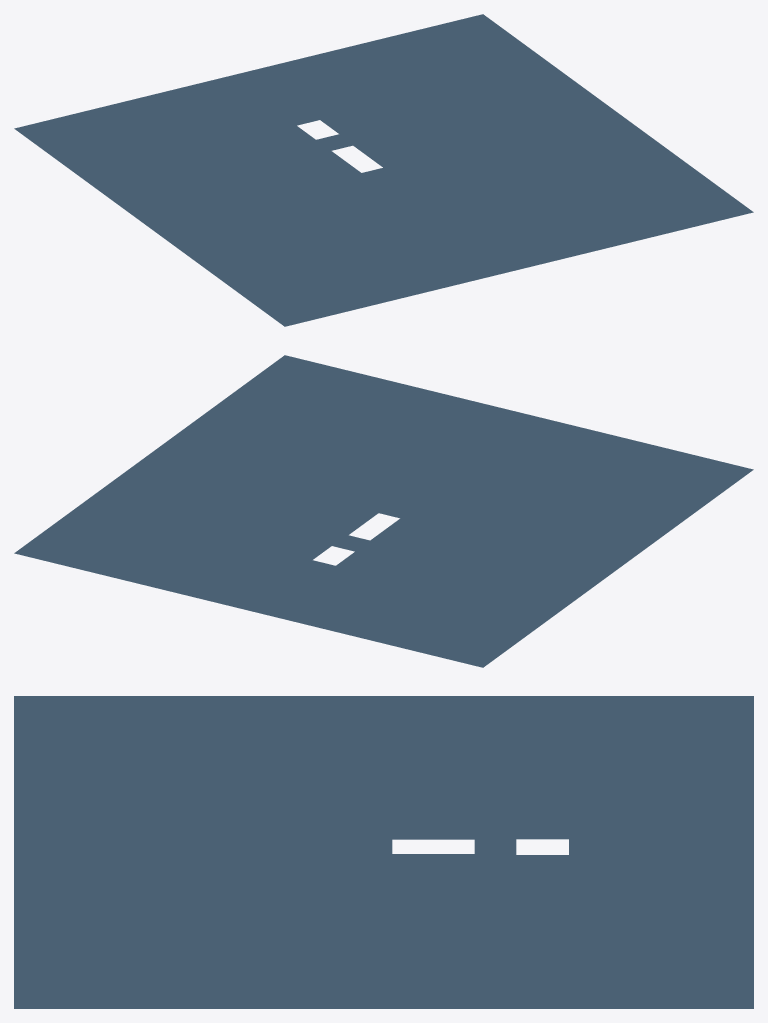
3 renders of one model, top to bottom at view 1: azimuth 30°, elevation 25°; view 2: azimuth 150°, elevation 25°; view 3: azimuth 270°, elevation 25°, orthographic. The views are drawn at different scales.
Visible parts, largest first — view 1: water_ghos; view 2: water_ghos; view 3: water_ghos.
Boxes of the visible parts, left/top/right/bottom form: water_ghos: left=14, top=14, right=753, bottom=326; water_ghos: left=14, top=355, right=753, bottom=667; water_ghos: left=14, top=696, right=753, bottom=1008.
Bounding box in the file's own units: 200 × 3.26e-05 × 200.
